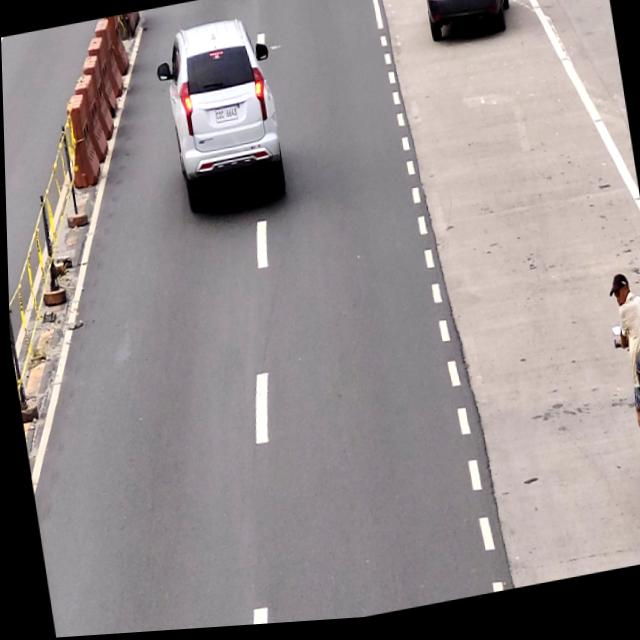Car: (157, 18, 288, 216), (419, 0, 519, 52)
License-Plate: (212, 108, 237, 128)
